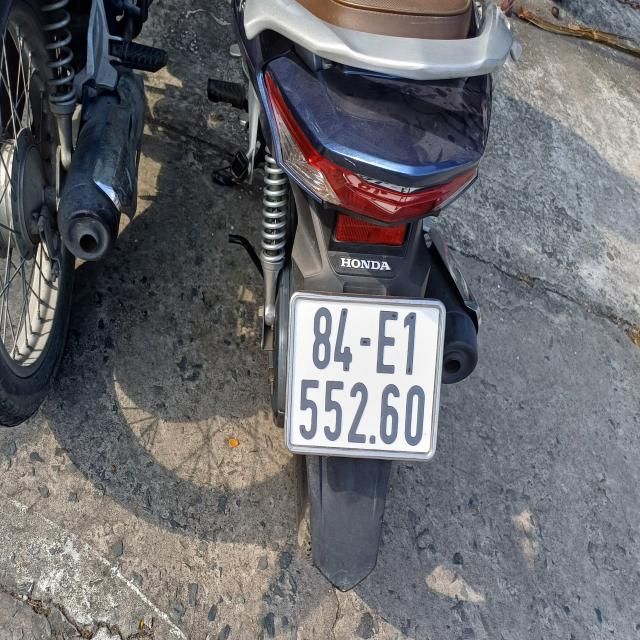0: (404, 386, 426, 447)
1: (398, 314, 419, 373)
2: (348, 382, 368, 441)
4: (330, 306, 358, 370)
5: (320, 369, 342, 446), (298, 375, 320, 437)
6: (379, 376, 399, 447)
8: (307, 303, 333, 374)
E: (377, 308, 403, 377)
